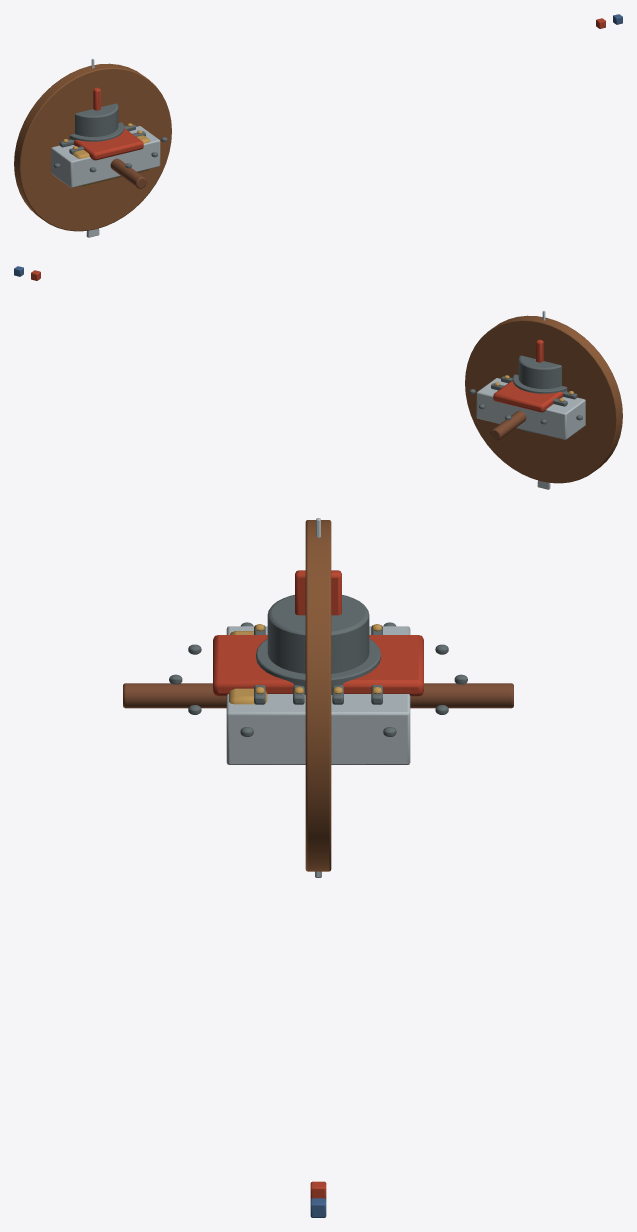
The model's file is sinew-combat-kit.glb.
The picture shows the model from 3 angles, top to bottom: view 1: azimuth 30°, elevation 25°; view 2: azimuth 150°, elevation 25°; view 3: azimuth 270°, elevation 25°; orthographic projection. The views are drawn at different scales.
Parts seen in each view (by area): view 1: Kit_ShieldFace, Kit_ChestPlate, Kit_HelmetCone, Kit_Tabard, Kit_Grip, Kit_Helmet; view 2: Kit_ShieldFace, Kit_ChestPlate, Kit_HelmetCone, Kit_Tabard, Kit_Grip, Kit_Helmet; view 3: Kit_ChestPlate, Kit_ShieldFace, Kit_Tabard, Kit_HelmetCone, Kit_Grip, Kit_Helmet, Kit_Crest.
Part boxes in pixels (bbox=[...]): Kit_ShieldFace: bbox=[14, 63, 171, 231]; Kit_ChestPlate: bbox=[51, 123, 160, 187]; Kit_HelmetCone: bbox=[75, 103, 118, 136]; Kit_Tabard: bbox=[74, 128, 143, 160]; Kit_Grip: bbox=[110, 158, 146, 188]; Kit_Helmet: bbox=[69, 122, 124, 141]; Kit_ShieldFace: bbox=[465, 315, 622, 483]; Kit_ChestPlate: bbox=[476, 375, 585, 439]; Kit_HelmetCone: bbox=[518, 355, 561, 388]; Kit_Tabard: bbox=[493, 380, 562, 412]; Kit_Grip: bbox=[490, 410, 526, 440]; Kit_Helmet: bbox=[512, 374, 567, 433]; Kit_ChestPlate: bbox=[226, 624, 410, 764]; Kit_ShieldFace: bbox=[169, 520, 467, 871]; Kit_Tabard: bbox=[213, 635, 423, 696]; Kit_HelmetCone: bbox=[267, 595, 369, 673]; Kit_Grip: bbox=[123, 683, 513, 708]; Kit_Helmet: bbox=[256, 638, 380, 694]; Kit_Crest: bbox=[295, 570, 341, 615].
Bounding box in the file's own units: 3.57 × 1 × 1.
